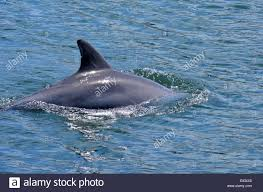fin: (6, 34, 212, 127)
